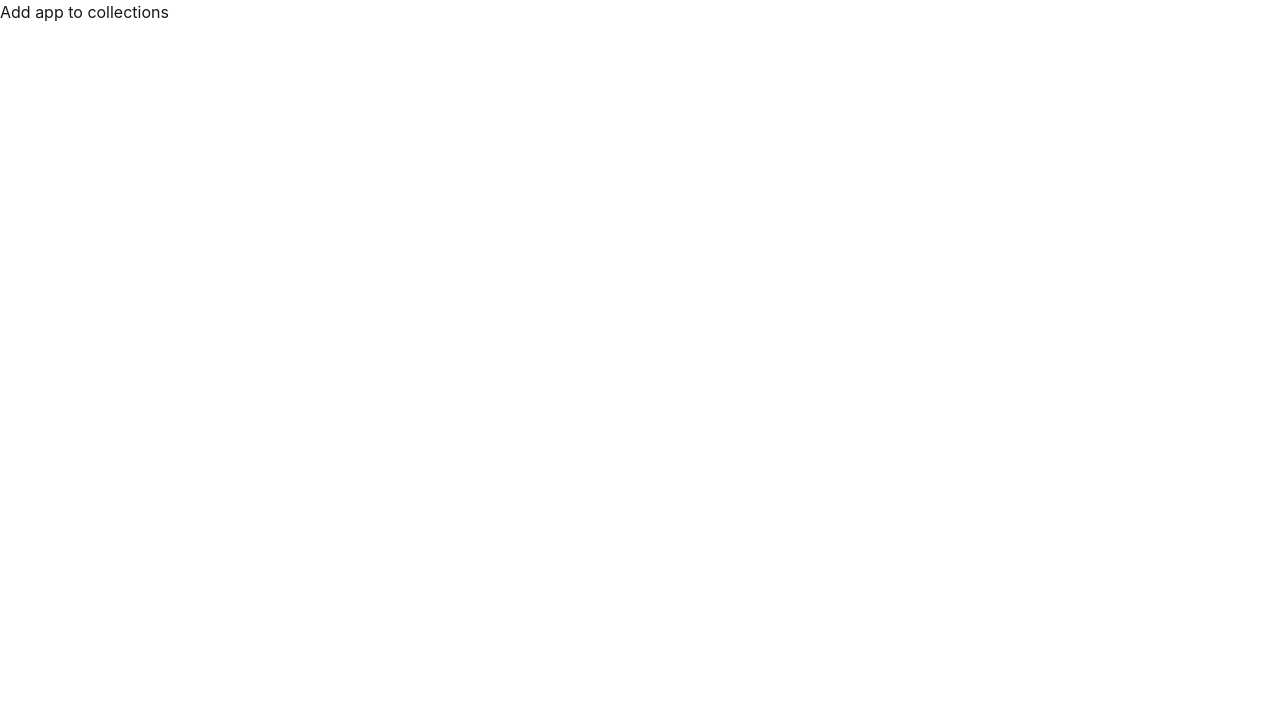
creates private by default and never grants public visibility implicitly
The image size is (1280, 720).
Click the button "Add app to collections".
click(84, 12)  # box [0,0,169,24]
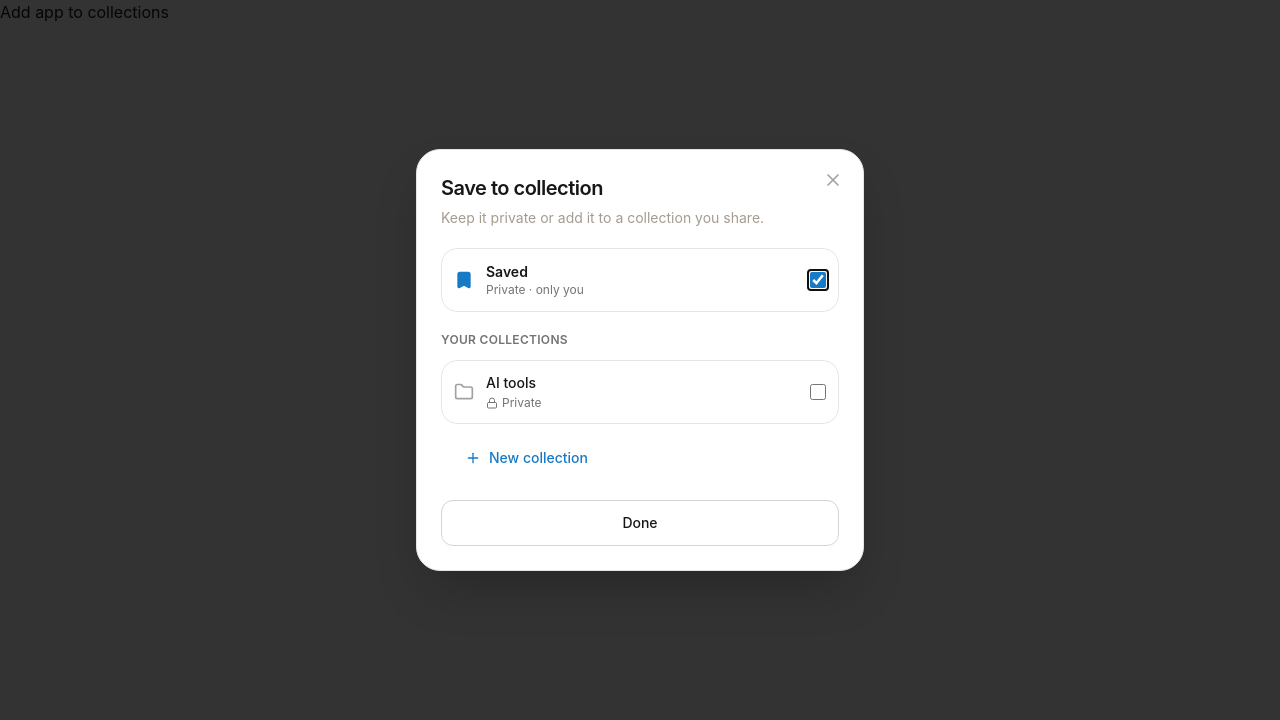
Now the checkbox labelled "AI tools Private" is shown, box [810,384,826,400]
Click the button "New collection".
click(538, 458)  # box [441,436,839,480]
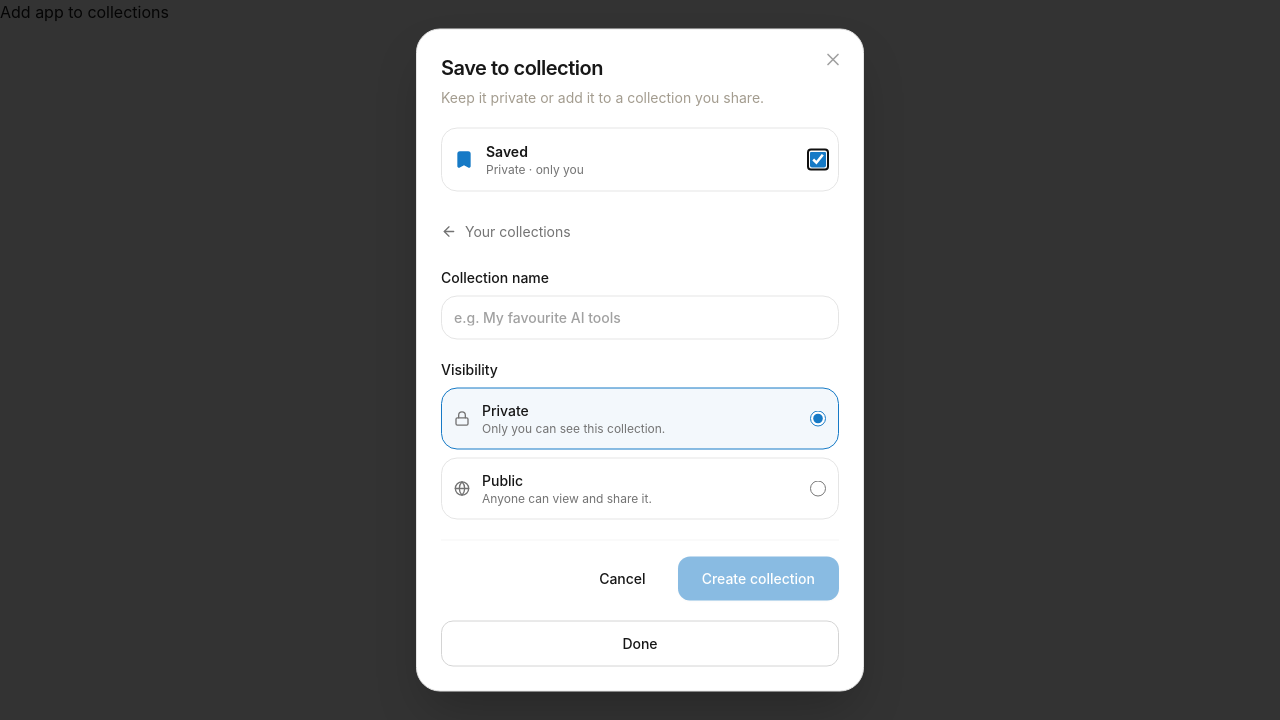
Type "New shortlist" into the field labelled "Collection name".
click(640, 318); type("New shortlist")  # box [441,296,839,340]
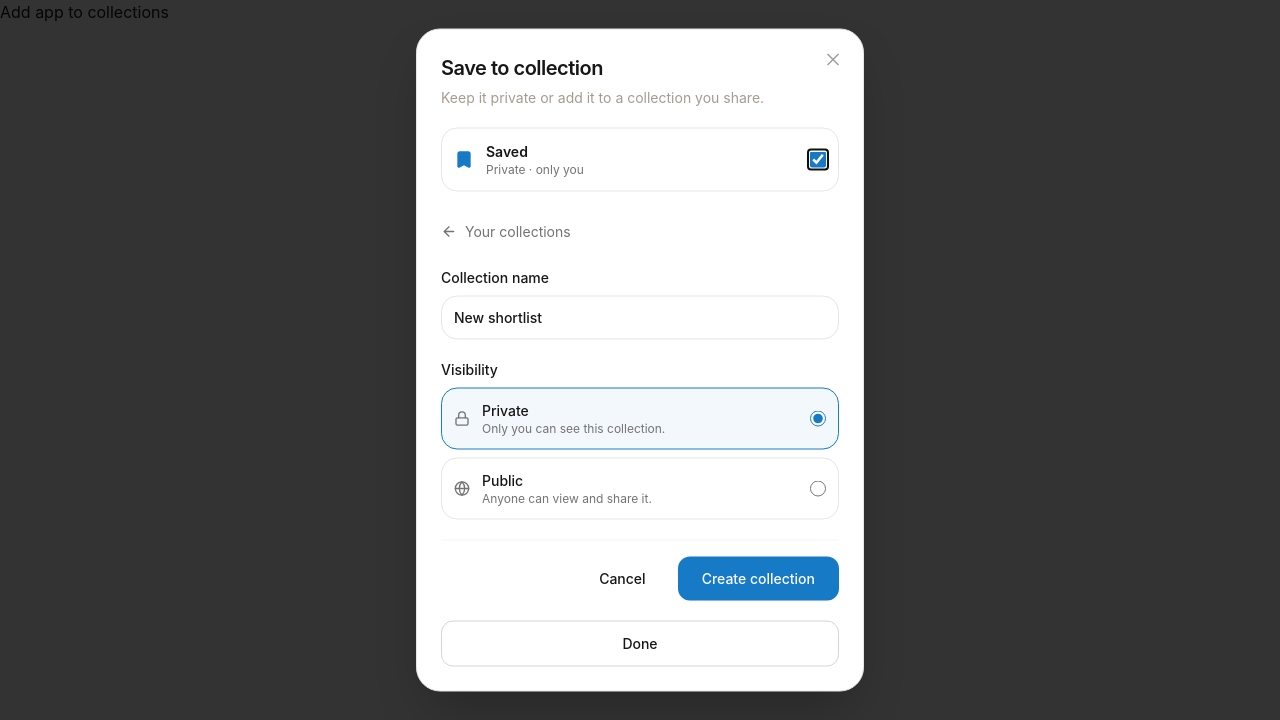
Click the button "Create collection".
click(758, 578)  # box [678,556,839,600]
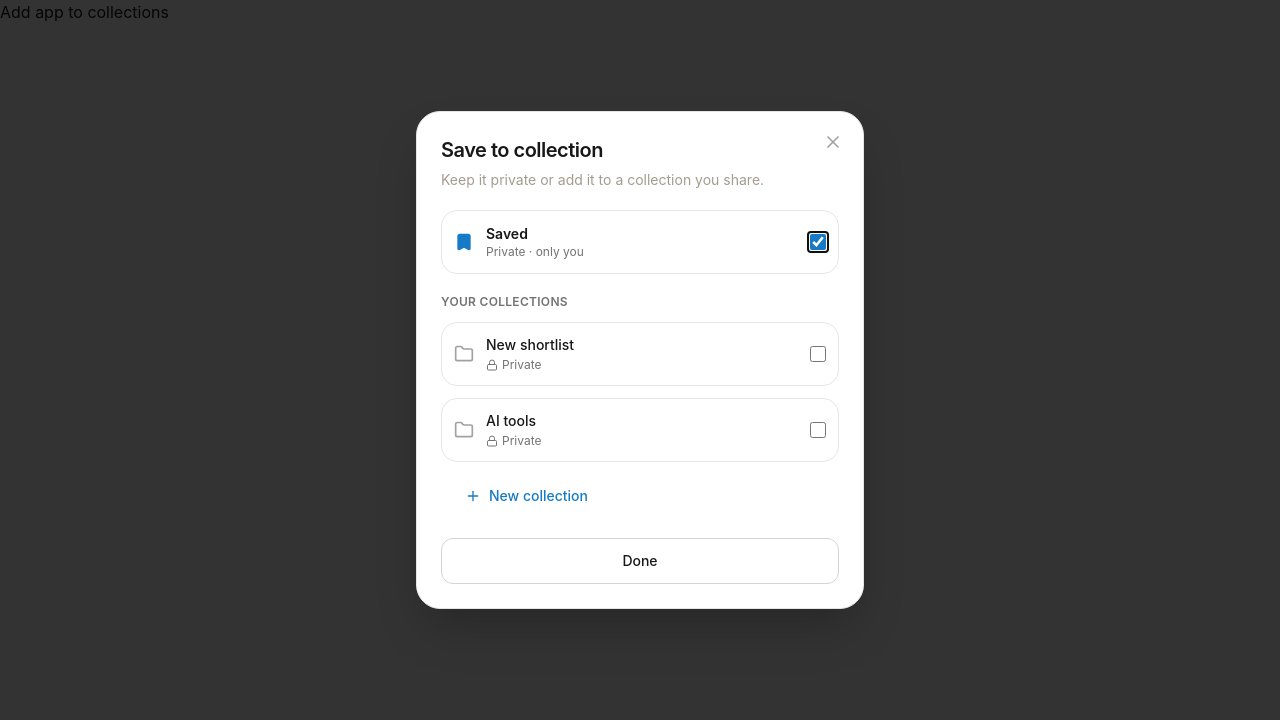
Now the checkbox labelled "New shortlist Private" is shown, box [810,346,826,362]
